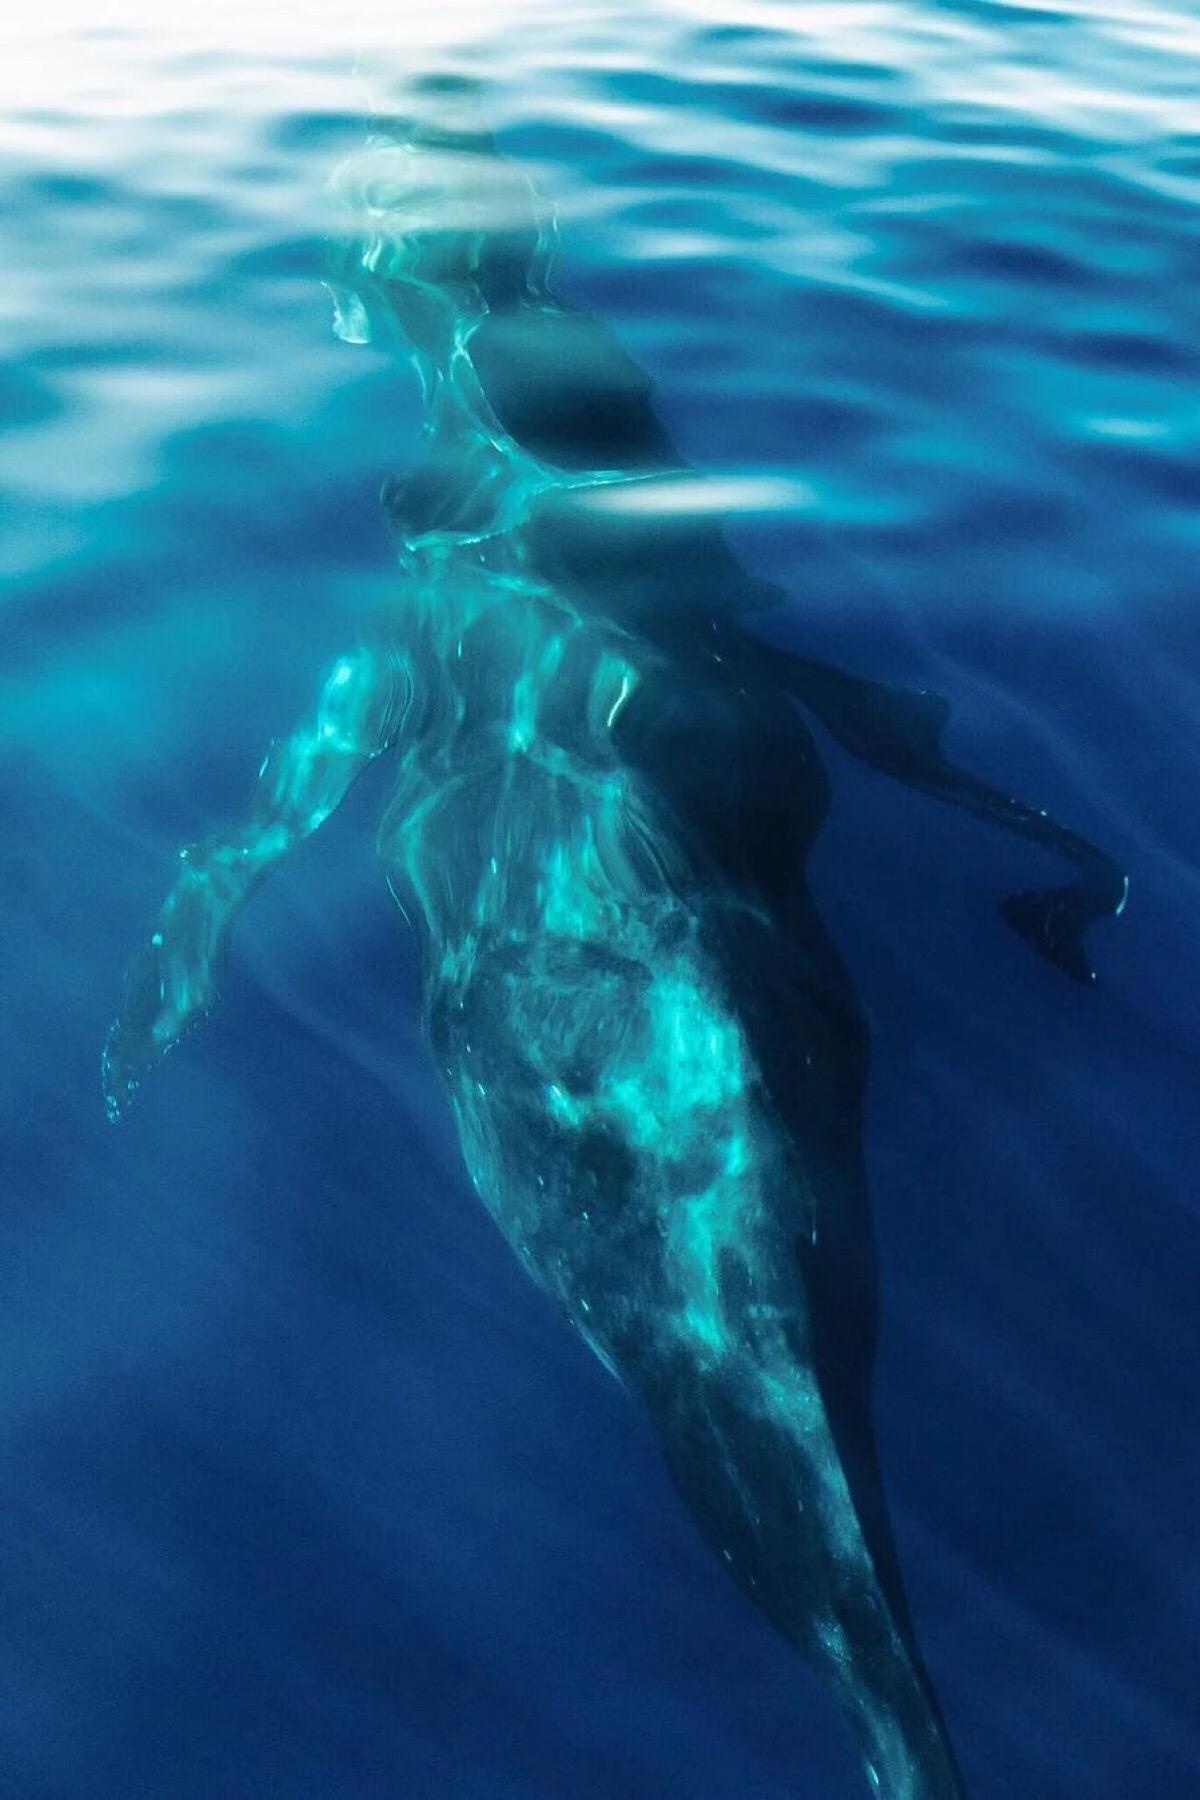fish: (82, 50, 1087, 1783)
